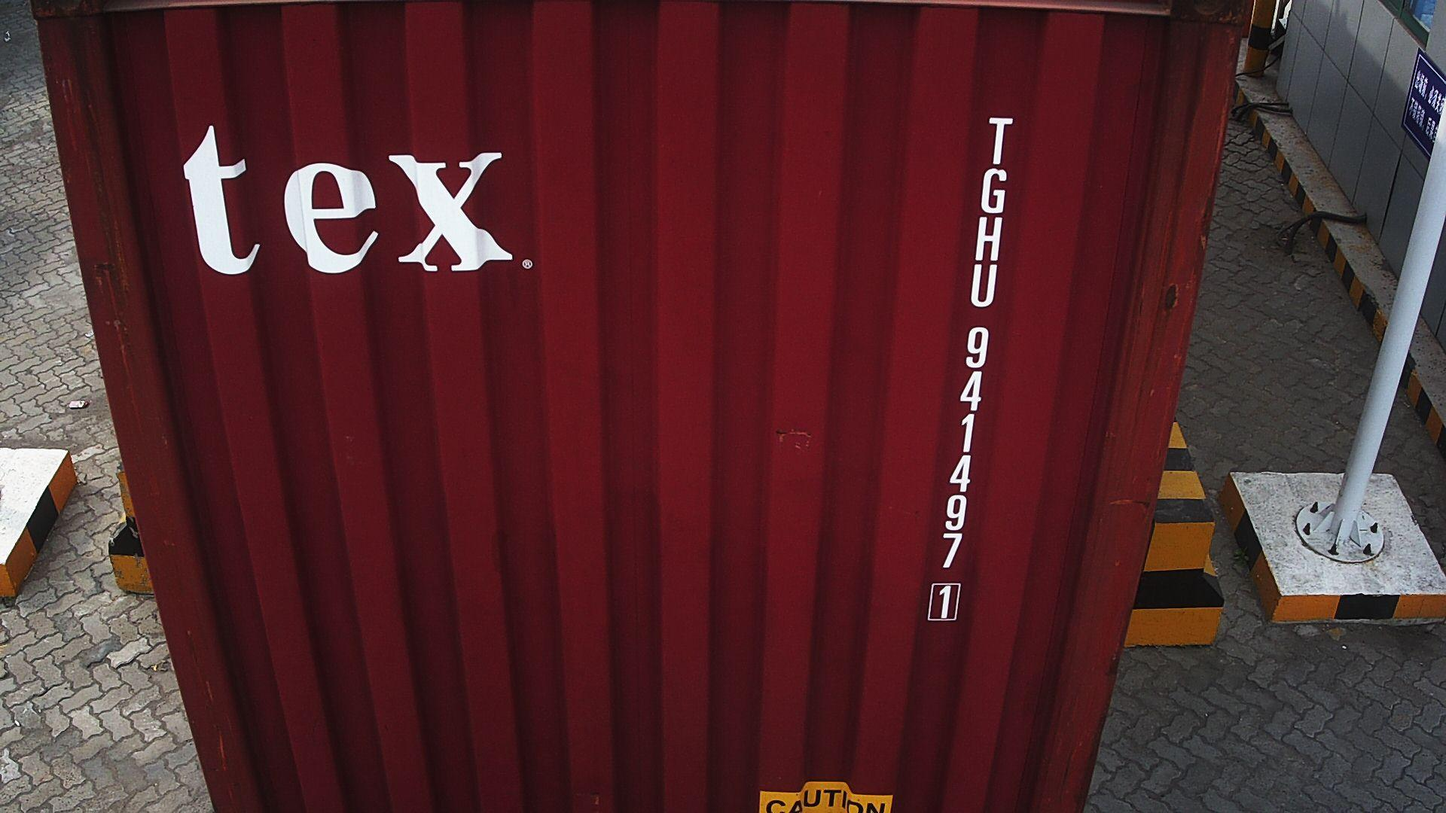container-numbers: (922, 111, 1013, 630)
